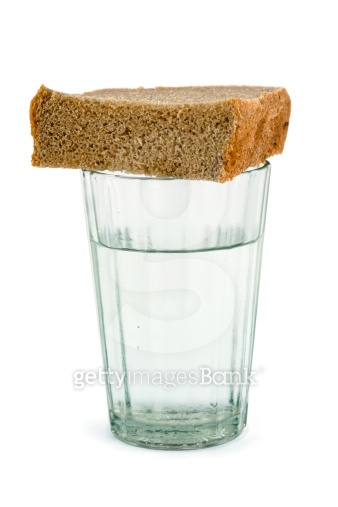glass of water: (77, 157, 283, 463)
slice of bread: (24, 80, 307, 183)
